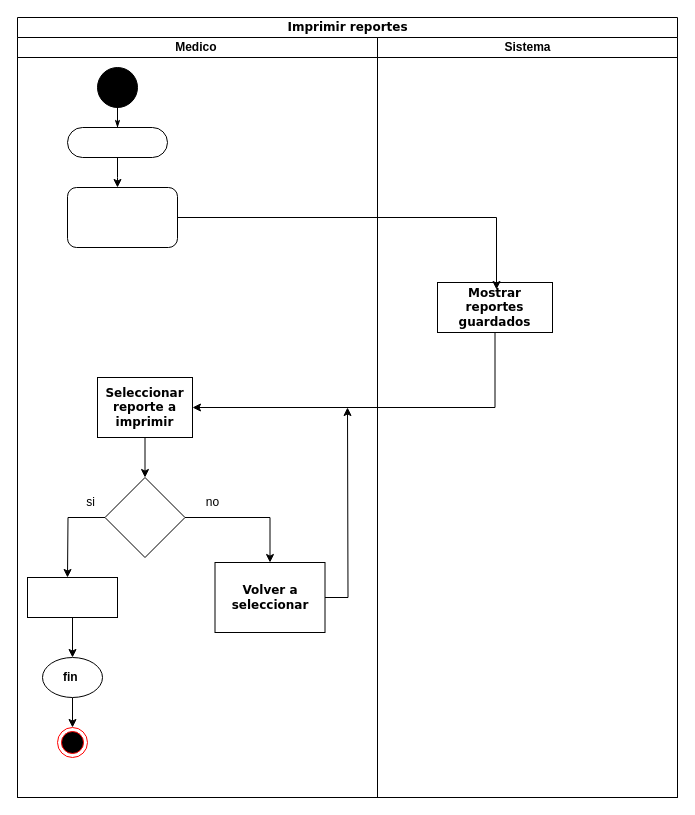
This 695x815 diagram has some shape labels left out. Here are the shapes that lost their labels. From the top down, the centre of each, then its label:
At point (117, 142): "inicia sesión".
At point (122, 217): "Generar reportes".
At point (72, 597): "Imprimir".
